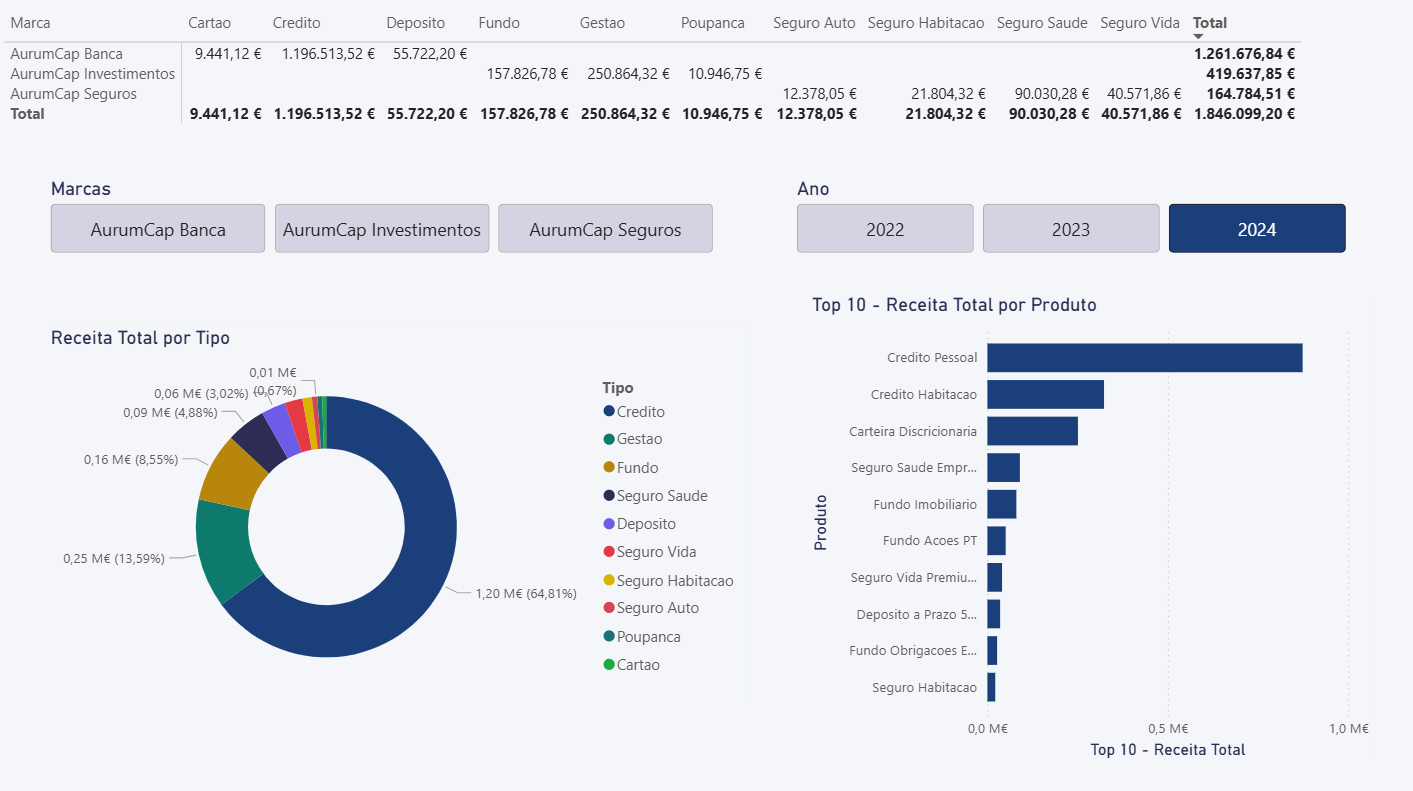

The page's visual inventory and layout, read from the dashboard file:
{"tool":"powerbi","page":{"name":"Performance por Produto","canvas":[1280,720],"ordinal":1},"visuals":[{"type":"pivotTable","fields":{"Rows":["marcas.nome"],"Columns":["produtos.tipo"],"Values":["Calendário.Receita Total"]},"box":[4.5,9,1270.8,131.5],"z":0},{"type":"donutChart","fields":{"Category":["produtos.tipo"],"Y":["Calendário.Receita Total"]},"box":[46.1,295.5,633.7,342.7],"z":1000},{"type":"barChart","fields":{"Category":["produtos.nome"],"Y":["Calendário.Receita Total"]},"box":[730.3,266.3,511.2,423.6],"z":2000},{"type":"advancedSlicerVisual","fields":{"Values":["Calendário.Ano"]},"box":[716.9,161.8,505.6,74.2],"z":3000},{"type":"advancedSlicerVisual","fields":{"Values":["marcas.nome"]},"box":[46.1,161.8,606.7,74.2],"z":4000}]}

Visuals, with their boxes in screenshot pixels (x1, y1, x2, y2), scaled from the page's 1280x720 canvas onto the 1413x791 screenshot:
pivotTable - marcas.nome x produtos.tipo: locate(5, 10, 1408, 154)
donutChart - produtos.tipo x Calendário.Receita Total: locate(51, 325, 750, 701)
barChart - produtos.nome x Calendário.Receita Total: locate(806, 293, 1370, 758)
advancedSlicerVisual - Calendário.Ano: locate(791, 178, 1350, 259)
advancedSlicerVisual - marcas.nome: locate(51, 178, 721, 259)
